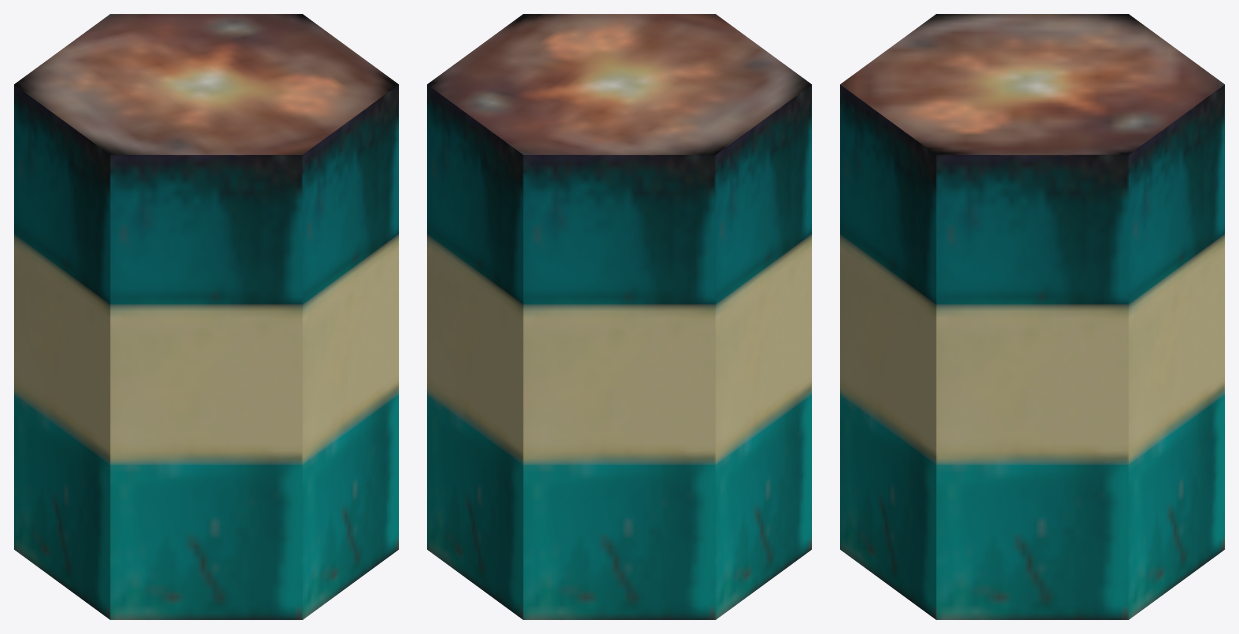
The model's file is barrel-1.fbx.
The picture shows the model from 3 angles, left to right: view 1: azimuth 30°, elevation 25°; view 2: azimuth 150°, elevation 25°; view 3: azimuth 270°, elevation 25°; orthographic projection.
Parts seen in each view (by area): view 1: Cylinder; view 2: Cylinder; view 3: Cylinder.
Boxes of the visible parts, x1,y1,x2,y2 form: Cylinder: (14, 14, 398, 619); Cylinder: (427, 14, 811, 619); Cylinder: (840, 14, 1224, 619).
Size of the model in its own units: 51.96 by 80 by 60.
Materials: 1 (1 with a texture image).
